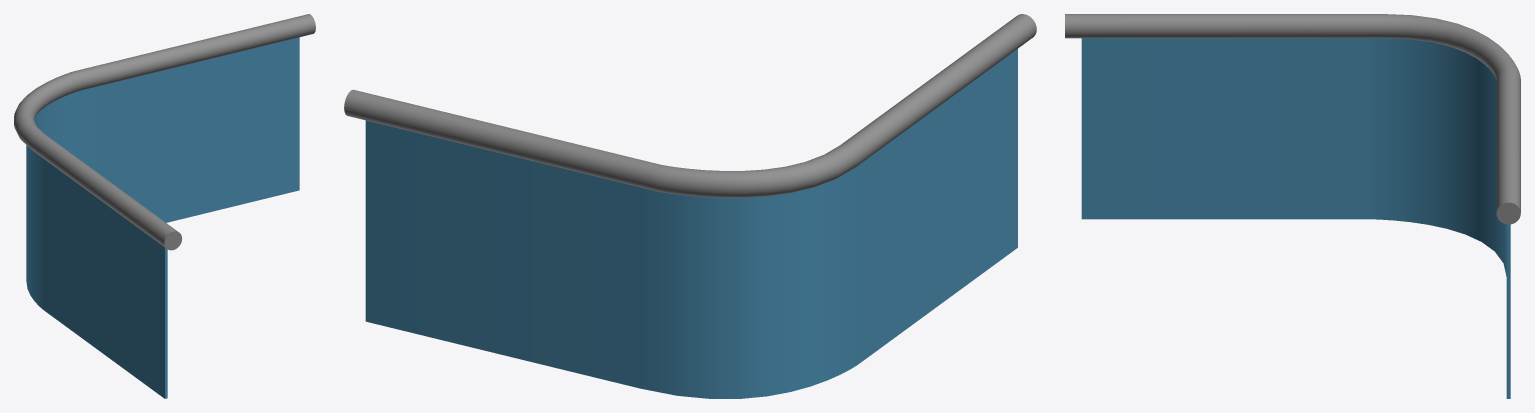
File: railing curve_glass.fbx
3 renders of one model, left to right at view 1: azimuth 30°, elevation 25°; view 2: azimuth 150°, elevation 25°; view 3: azimuth 270°, elevation 25°, orthographic. The views are drawn at different scales.
Visible parts, largest first — view 1: Cube.002; view 2: Cube.002; view 3: Cube.002.
Boxes of the visible parts, left/top/right/bottom form: Cube.002: left=14, top=14, right=315, bottom=398; Cube.002: left=344, top=14, right=1036, bottom=398; Cube.002: left=1065, top=14, right=1520, bottom=398.
Size of the model in its own units: 1122 by 553 by 1122.
Materials: 1 (1 with a texture image).
